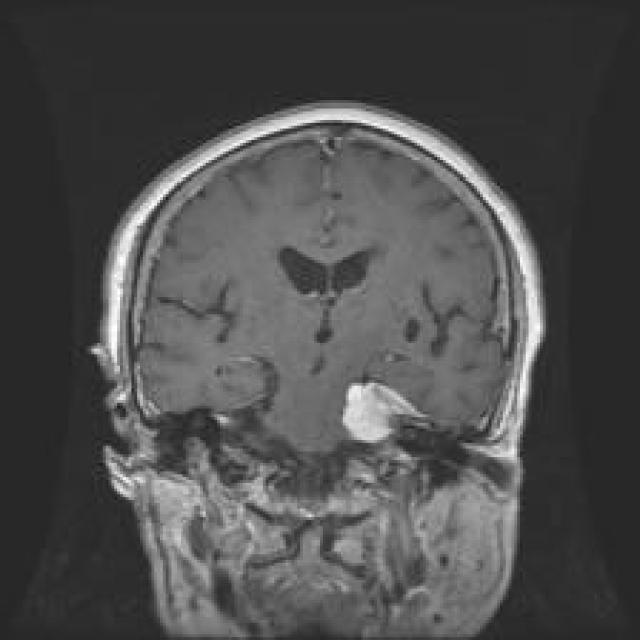meningioma_tumor: (333, 370, 460, 463)
